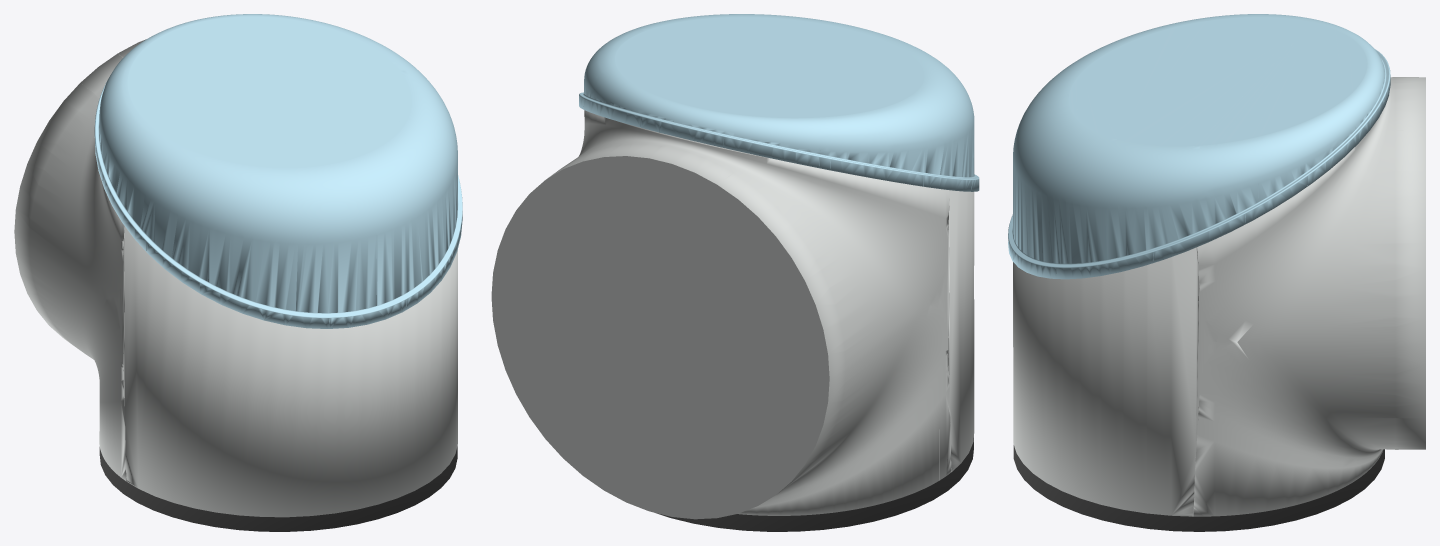
File: shoulder.dae
The picture shows the model from 3 angles, left to right: view 1: azimuth 30°, elevation 25°; view 2: azimuth 150°, elevation 25°; view 3: azimuth 270°, elevation 25°; orthographic projection. The views are drawn at different scales.
Parts seen in each view (by area): view 1: Actor0, Actor1; view 2: Actor0, Actor1; view 3: Actor0, Actor1.
Part boxes in pixels (x1=…): Actor0: x1=14, y1=39, x2=457, y2=531; Actor1: x1=94, y1=14, x2=462, y2=328; Actor0: x1=491, y1=110, x2=974, y2=531; Actor1: x1=579, y1=14, x2=979, y2=191; Actor0: x1=1013, y1=77, x2=1425, y2=531; Actor1: x1=1008, y1=14, x2=1390, y2=279.
Size of the model in its own units: 0.119 by 0.13 by 0.1337.
